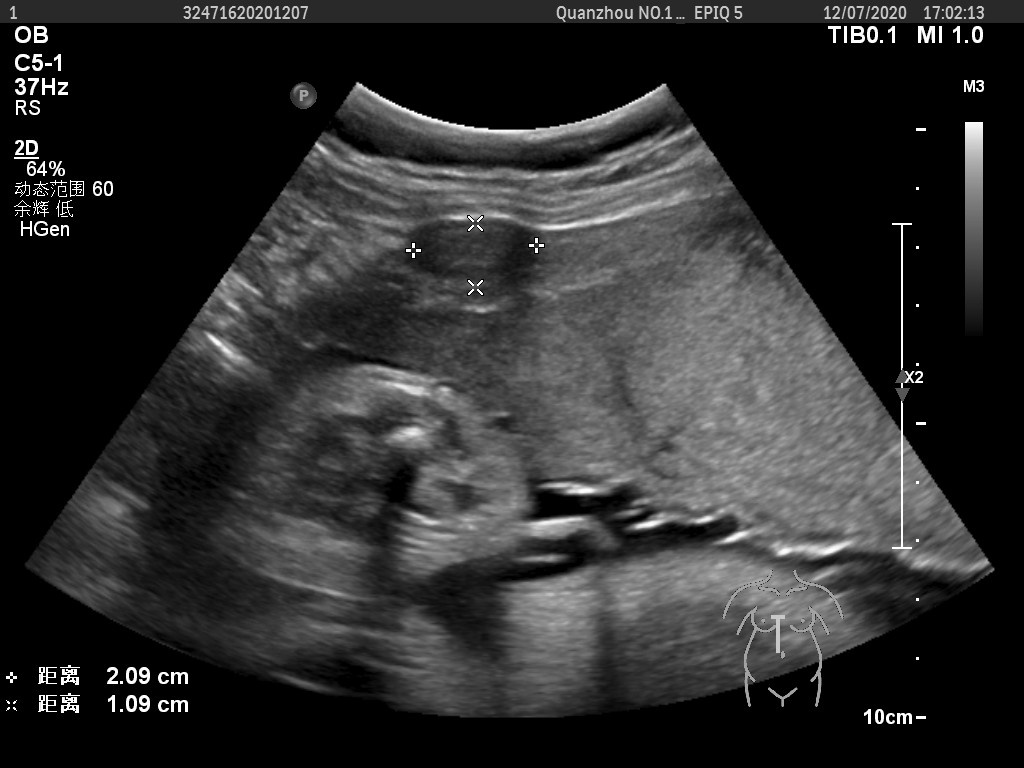肌瘤: (413, 222, 538, 290)
